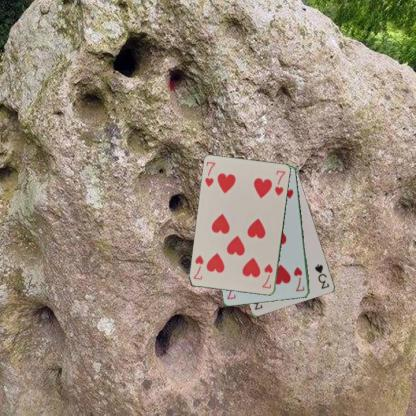3s: (312, 261, 330, 290)
7h: (259, 261, 274, 290), (291, 265, 306, 293), (202, 160, 217, 188)
